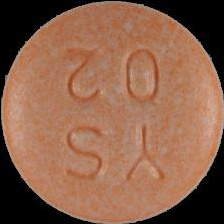61442-322: (0, 0, 224, 224)
